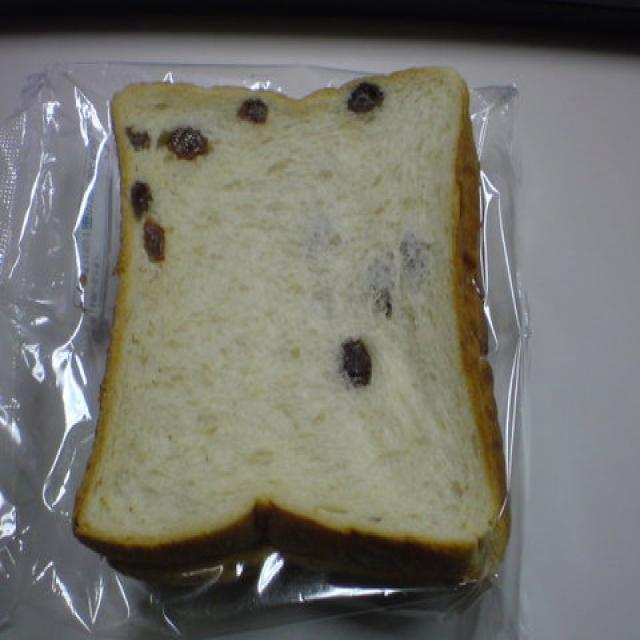面包点心: (100, 66, 493, 572)
